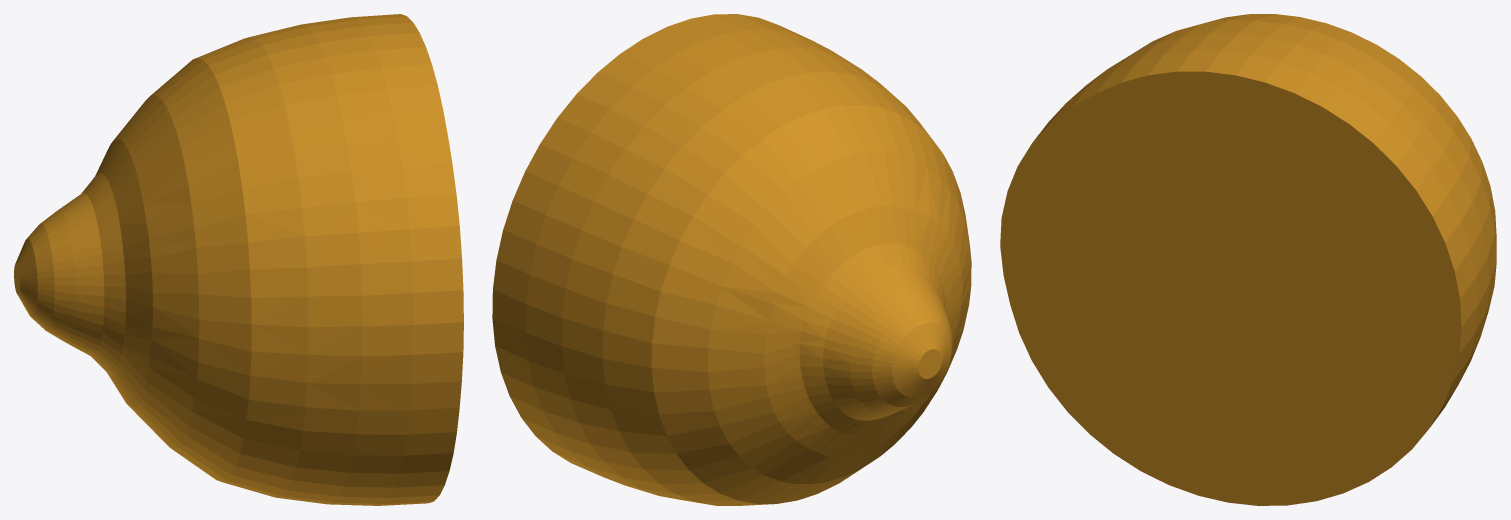
File: lemon.obj
3 views of the same model, side by side, from view 1: azimuth 30°, elevation 25°; view 2: azimuth 150°, elevation 25°; view 3: azimuth 270°, elevation 25° (orthographic). The views are drawn at different scales.
Parts seen in each view (by area): view 1: node; view 2: node; view 3: node.
Boxes of the visible parts, x1,y1,x2,y2 form: node: (14,14,463,505); node: (492,14,971,505); node: (1000,14,1496,505).
Size of the model in its own units: 31.07 by 32.86 by 34.
